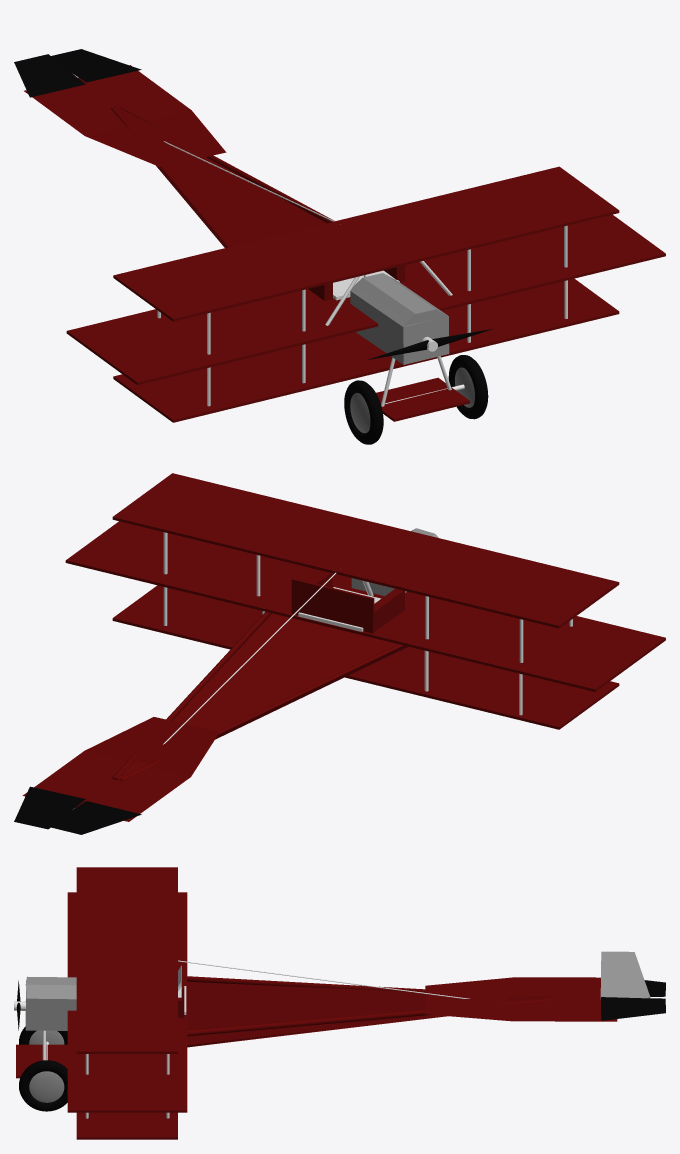
Rendered from airplane.glb.
3 renders of one model, top to bottom at view 1: azimuth 30°, elevation 25°; view 2: azimuth 150°, elevation 25°; view 3: azimuth 270°, elevation 25°, orthographic. The views are drawn at different scales.
Parts seen in each view (by area): view 1: Cube.001, Cube.002, Cube, Plane.001, Cylinder.023, Plane, Cube.003, Plane.004, Plane.003, Torus, Torus.001, Sphere; view 2: Cube.001, Cube.002, Cube, Cylinder.023, Plane.001, Cube.004, Plane.003, Plane.004, Cube.006; view 3: Cube.001, Cylinder.023, Cube.002, Plane.001, Cube, Plane, Plane.002, Plane.003, Torus.001, Cube.003, Sphere.001, Cylinder.021 (+1 smaller).
Part boxes in pixels (bbox=[...]): Cube.001: bbox=[113, 166, 619, 321]; Cube.002: bbox=[66, 214, 665, 384]; Cube: bbox=[113, 278, 619, 422]; Plane.001: bbox=[24, 65, 226, 166]; Cylinder.023: bbox=[111, 105, 334, 247]; Plane: bbox=[350, 273, 449, 364]; Cube.003: bbox=[376, 377, 469, 421]; Plane.004: bbox=[14, 54, 85, 97]; Plane.003: bbox=[51, 49, 141, 82]; Torus: bbox=[344, 380, 383, 444]; Torus.001: bbox=[448, 355, 488, 419]; Sphere: bbox=[350, 393, 370, 433]; Cube.001: bbox=[112, 473, 619, 628]; Cube.002: bbox=[65, 521, 665, 691]; Cube: bbox=[112, 585, 619, 729]; Cylinder.023: bbox=[112, 611, 408, 780]; Plane.001: bbox=[22, 717, 219, 821]; Cube.004: bbox=[291, 578, 374, 633]; Plane.003: bbox=[14, 786, 85, 829]; Plane.004: bbox=[48, 801, 141, 834]; Cube.006: bbox=[374, 588, 404, 631]; Cube.001: bbox=[76, 867, 177, 1053]; Cylinder.023: bbox=[187, 976, 550, 1047]; Cube.002: bbox=[67, 892, 187, 1112]; Plane.001: bbox=[425, 977, 617, 1021]; Cube: bbox=[76, 1112, 177, 1139]; Plane: bbox=[25, 976, 76, 1030]; Plane.002: bbox=[600, 951, 650, 998]; Plane.003: bbox=[601, 997, 665, 1020]; Torus.001: bbox=[19, 1060, 67, 1111]; Cube.003: bbox=[16, 1044, 67, 1078]; Sphere.001: bbox=[29, 1071, 64, 1102]; Cylinder.021: bbox=[178, 960, 469, 998].
Bounding box in the file's own units: 23.2 × 6.8 × 29.28.
